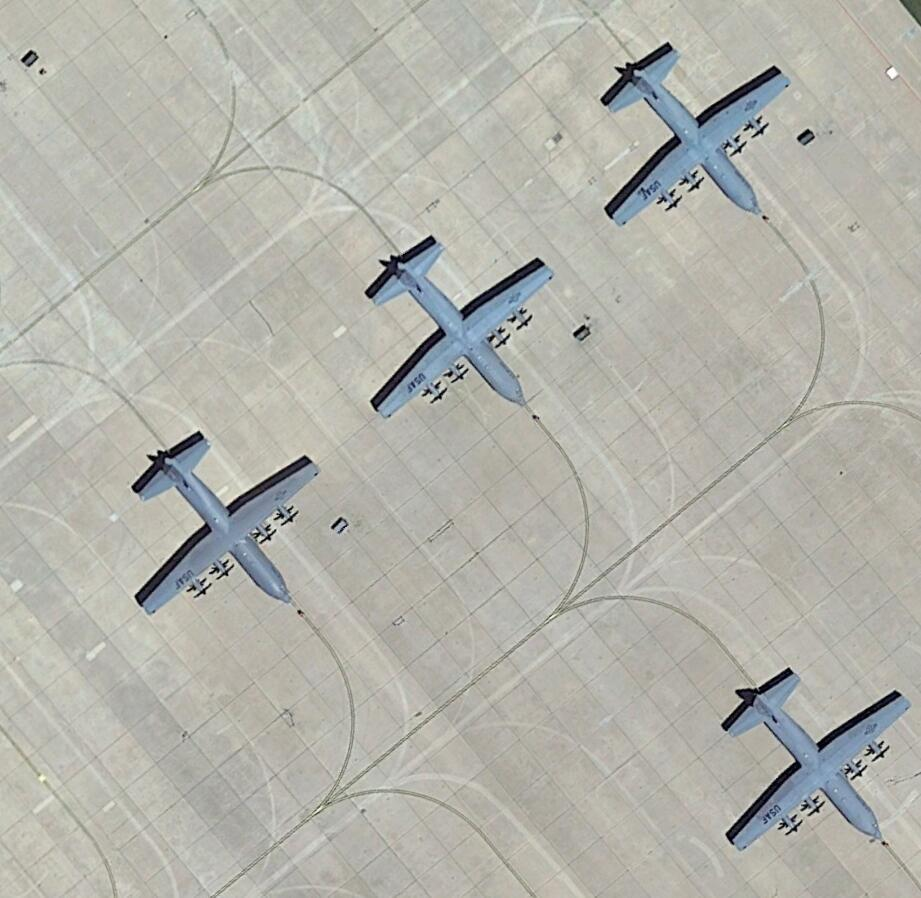A2: (125, 425, 325, 617), (594, 35, 793, 227), (362, 230, 558, 423), (716, 662, 916, 850)
